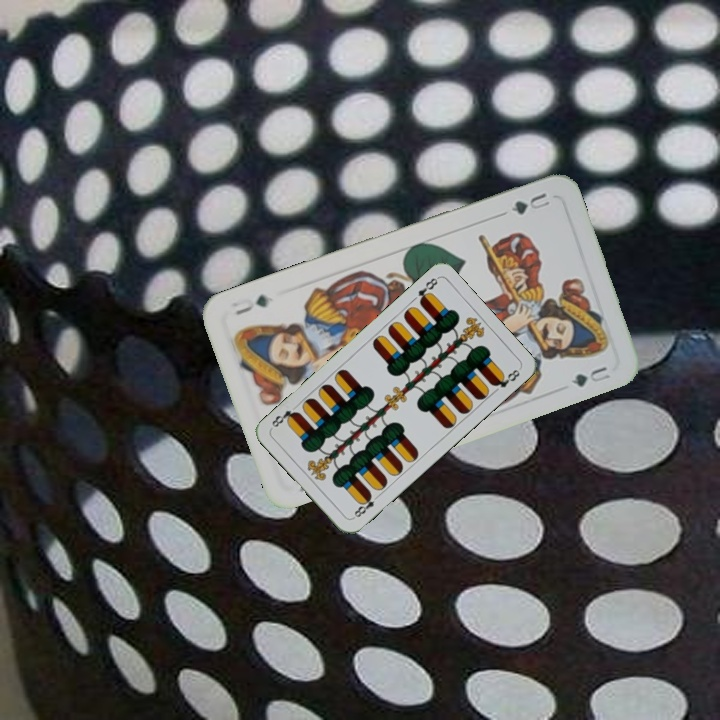E8: (349, 489, 382, 521), (414, 273, 441, 307)
GU: (498, 188, 553, 218)
